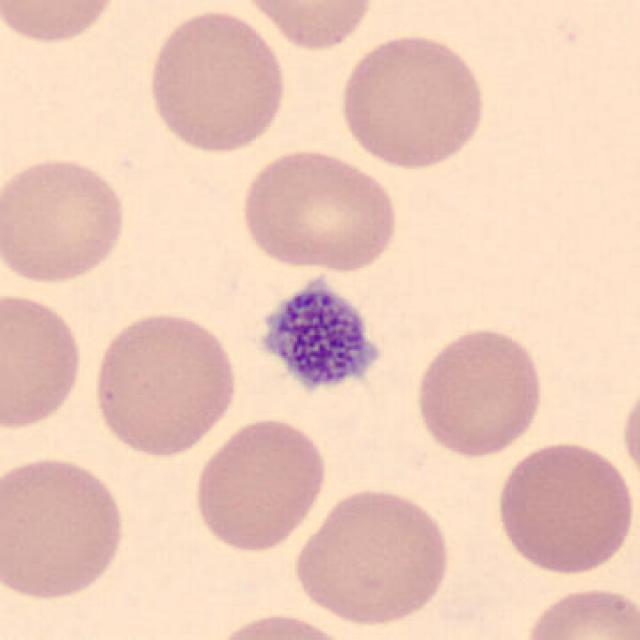Platelets: (250, 277, 388, 402)
RBC: (288, 483, 455, 630), (89, 307, 242, 460), (142, 5, 290, 157), (334, 30, 489, 173), (236, 145, 402, 273), (0, 451, 132, 605), (491, 438, 636, 578), (188, 414, 330, 556), (410, 323, 548, 462), (0, 152, 132, 288), (0, 287, 87, 434), (233, 0, 380, 53), (519, 582, 638, 640), (0, 0, 124, 47), (202, 610, 364, 640), (618, 375, 640, 491)
